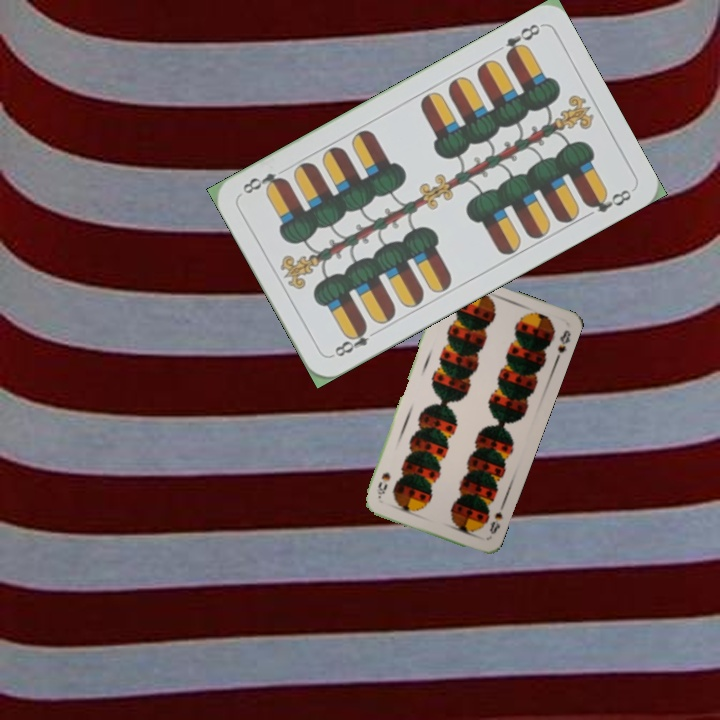E8: (327, 321, 382, 360), (501, 19, 544, 61)
S8: (486, 508, 506, 536)
